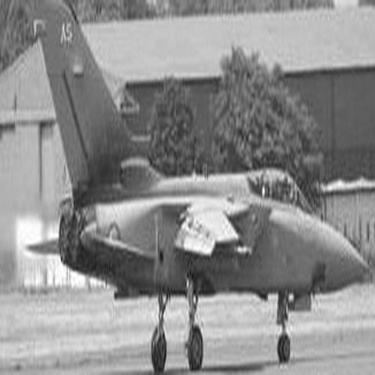airplane: (14, 1, 351, 359)
